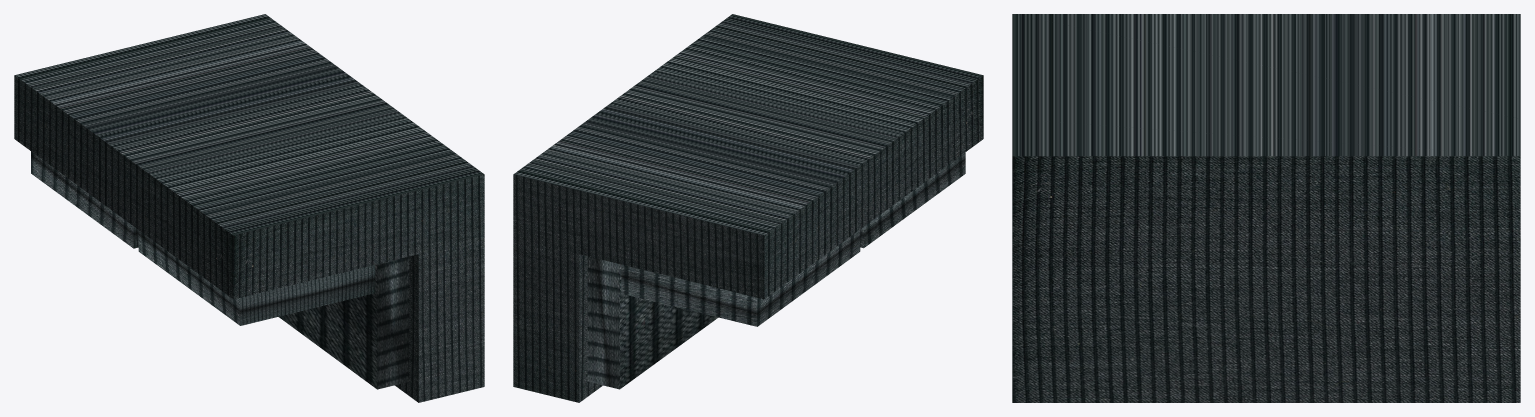
File: Living Room Couch.fbx
3 views of the same model, side by side, from view 1: azimuth 30°, elevation 25°; view 2: azimuth 150°, elevation 25°; view 3: azimuth 270°, elevation 25° (orthographic). The views are drawn at different scales.
Visible parts, largest first — view 1: pCube1, pCube4, pCube2, pCube3; view 2: pCube1, pCube4, pCube3, pCube2; view 3: pCube1.
Part boxes in pixels (x1=…): pCube1: x1=14, y1=14, x2=484, y2=402; pCube4: x1=278, y1=256, x2=409, y2=389; pCube2: x1=138, y1=230, x2=375, y2=325; pCube3: x1=31, y1=151, x2=138, y2=248; pCube1: x1=513, y1=14, x2=983, y2=402; pCube4: x1=587, y1=256, x2=718, y2=389; pCube3: x1=621, y1=229, x2=860, y2=326; pCube2: x1=860, y1=152, x2=965, y2=248; pCube1: x1=1012, y1=14, x2=1520, y2=402.
Size of the model in its own units: 4.11 by 3.33 by 6.22.
